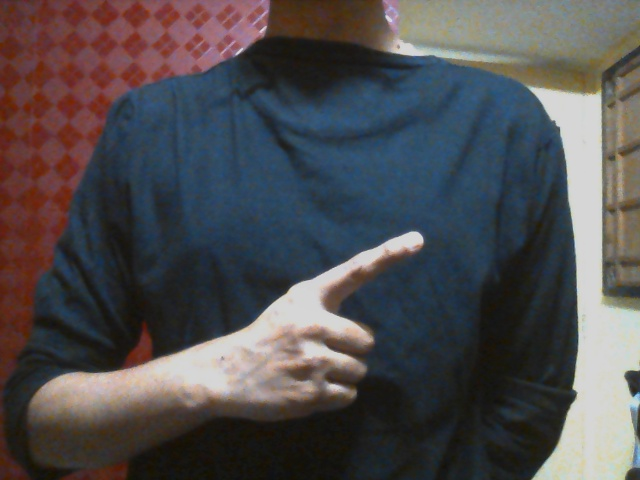I: (231, 229, 425, 424)
